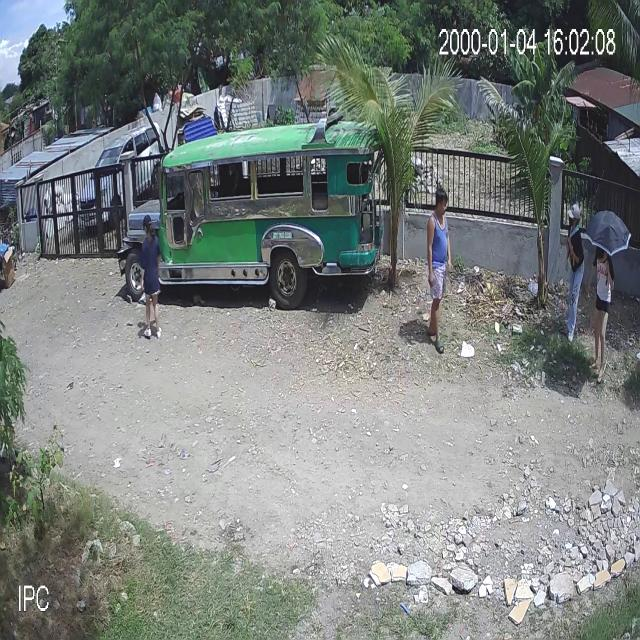standing: (554, 194, 586, 343)
walking: (421, 182, 452, 356), (588, 243, 616, 390), (137, 214, 165, 347)
